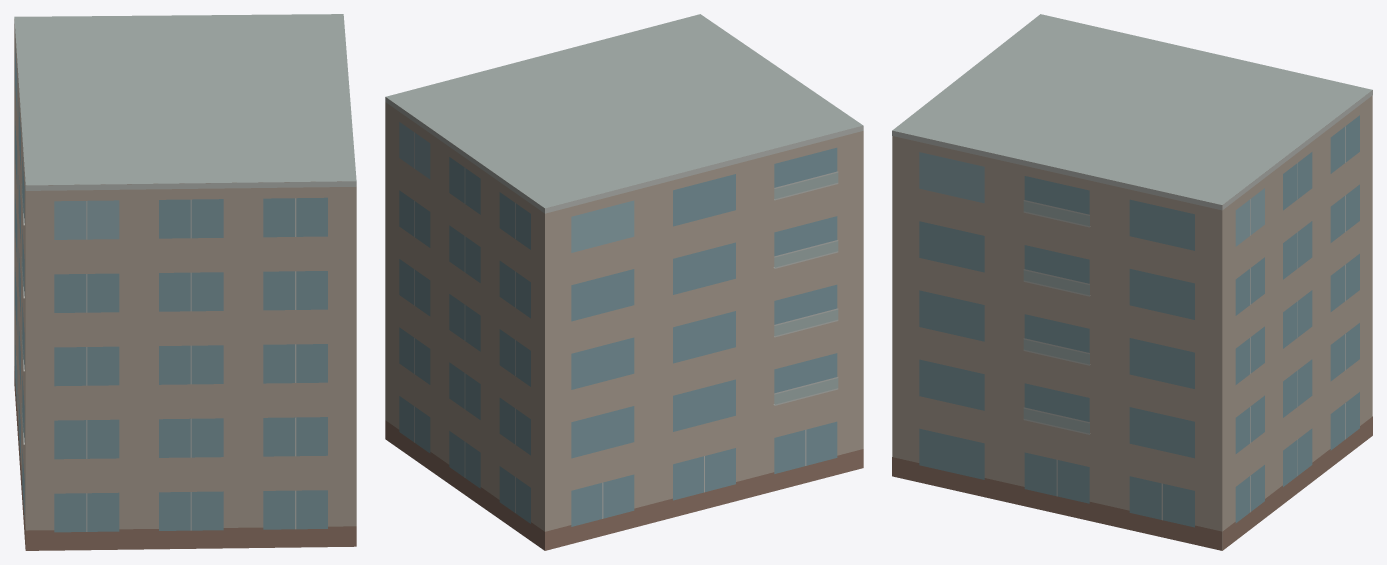
File: survey-upis-33016726.glb
3 views of the same model, side by side, from view 1: azimuth 30°, elevation 25°; view 2: azimuth 150°, elevation 25°; view 3: azimuth 270°, elevation 25° (orthographic). The views are drawn at different scales.
Parts seen in each view (by area): view 1: survey-upis-33016726.tmp; view 2: survey-upis-33016726.tmp; view 3: survey-upis-33016726.tmp.
Boxes of the visible parts, bbox=[...] form: survey-upis-33016726.tmp: bbox=[14, 14, 356, 550]; survey-upis-33016726.tmp: bbox=[385, 14, 863, 550]; survey-upis-33016726.tmp: bbox=[892, 14, 1372, 550].
Bounding box in the file's own units: 18.89 × 15.92 × 20.07.
